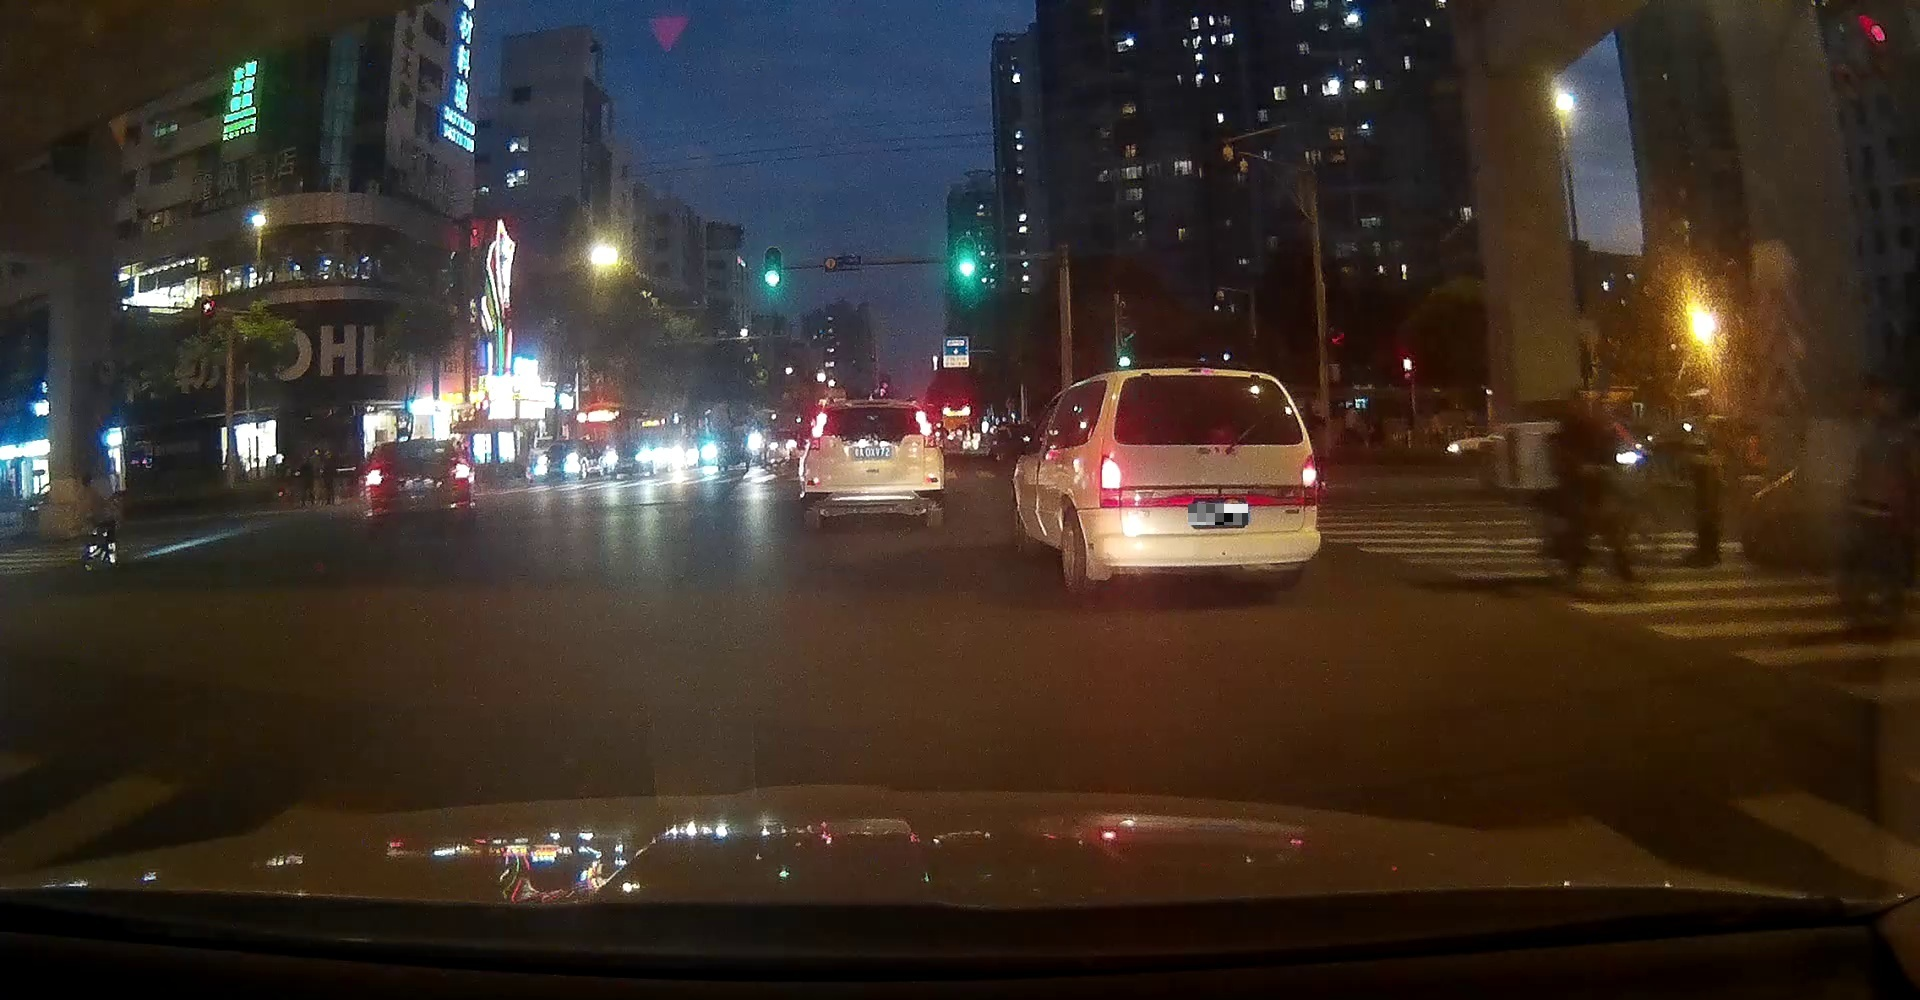L_light: (1100, 456, 1120, 508), (808, 412, 825, 448), (364, 470, 383, 485)
R_light: (1302, 456, 1318, 504), (916, 411, 937, 447), (455, 464, 470, 478)
T_light: (1189, 374, 1217, 383), (408, 445, 427, 452), (865, 407, 884, 414)
night-no: (1098, 368, 1321, 594), (801, 400, 943, 525), (364, 438, 472, 529)
plate_1: (1189, 504, 1248, 525)
